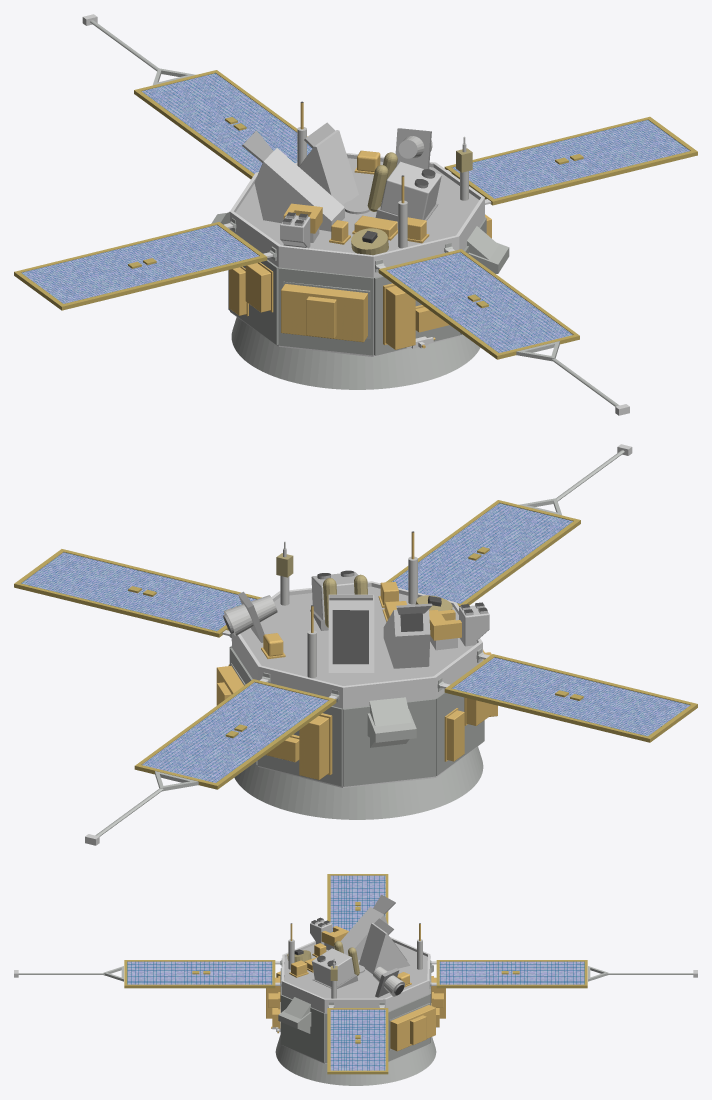
Rendered from ace.glb.
The picture shows the model from 3 angles, top to bottom: view 1: azimuth 30°, elevation 25°; view 2: azimuth 150°, elevation 25°; view 3: azimuth 270°, elevation 25°; orthographic projection. The views are drawn at different scales.
Parts seen in each view (by area): view 1: Layer_0; view 2: Layer_0; view 3: Layer_0.
Boxes of the visible parts, left/top/right/bottom form: Layer_0: left=14, top=14, right=697, bottom=415; Layer_0: left=14, top=444, right=697, bottom=845; Layer_0: left=14, top=874, right=697, bottom=1085.
Bounding box in the file's own units: 922 × 278 × 1345.
Materials: 2 (2 with a texture image).
